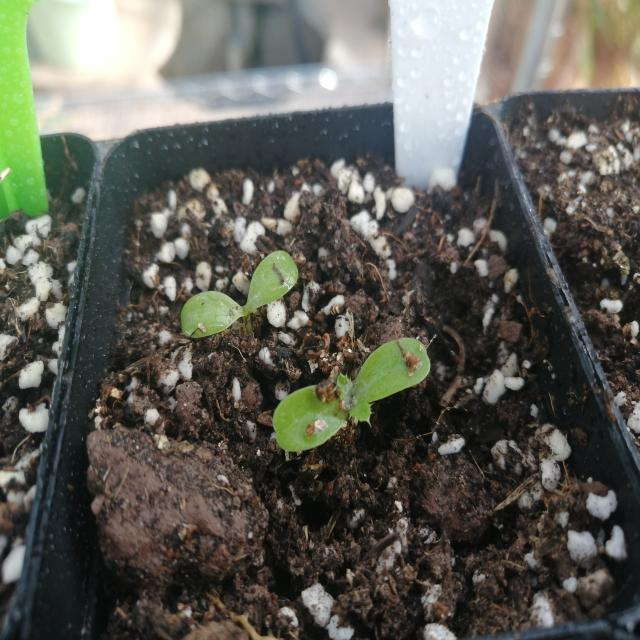field_thistle: (256, 325, 462, 473)
